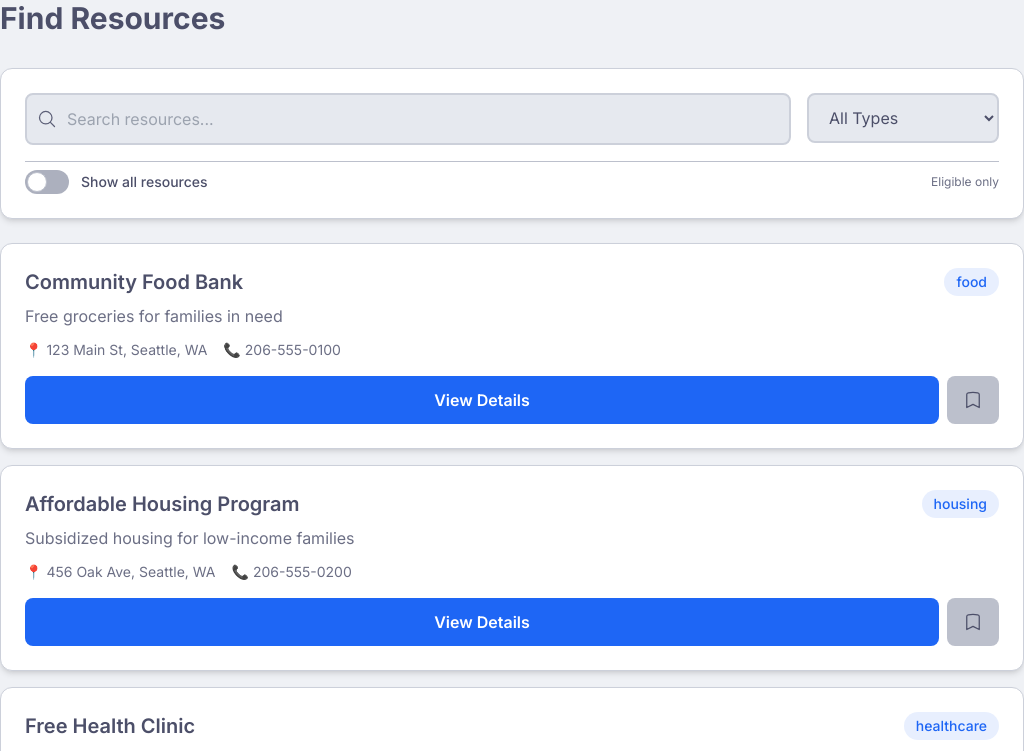
it: Resources Page - Search and Bookmark Tests › Search Functionality › should filter resources by search term (description)
The width and height of the screenshot is (1024, 751).
expect the heading "Community Food Bank" is shown: met, box left=25, top=268, right=243, bottom=296
Type "groceries" into the search field with placeholder "Search resources...".
click(408, 119); type("groceries")  # box left=25, top=93, right=791, bottom=145
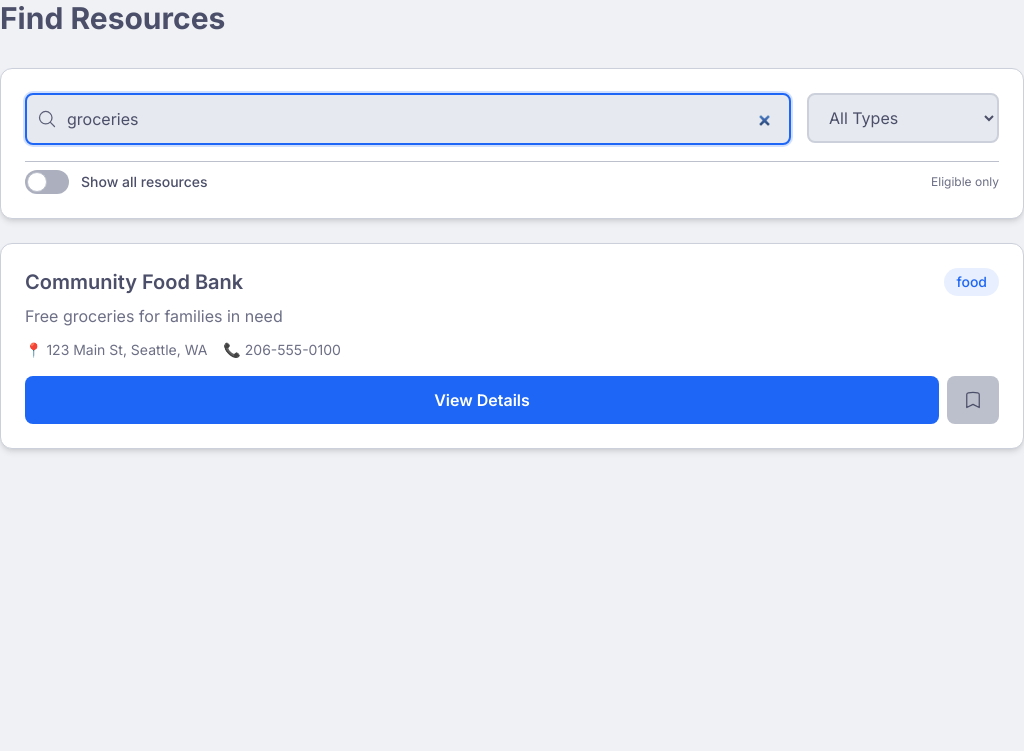
expect the heading "Community Food Bank" is shown: met, box left=25, top=268, right=243, bottom=296
expect the heading "Free Health Clinic" is gone: met
